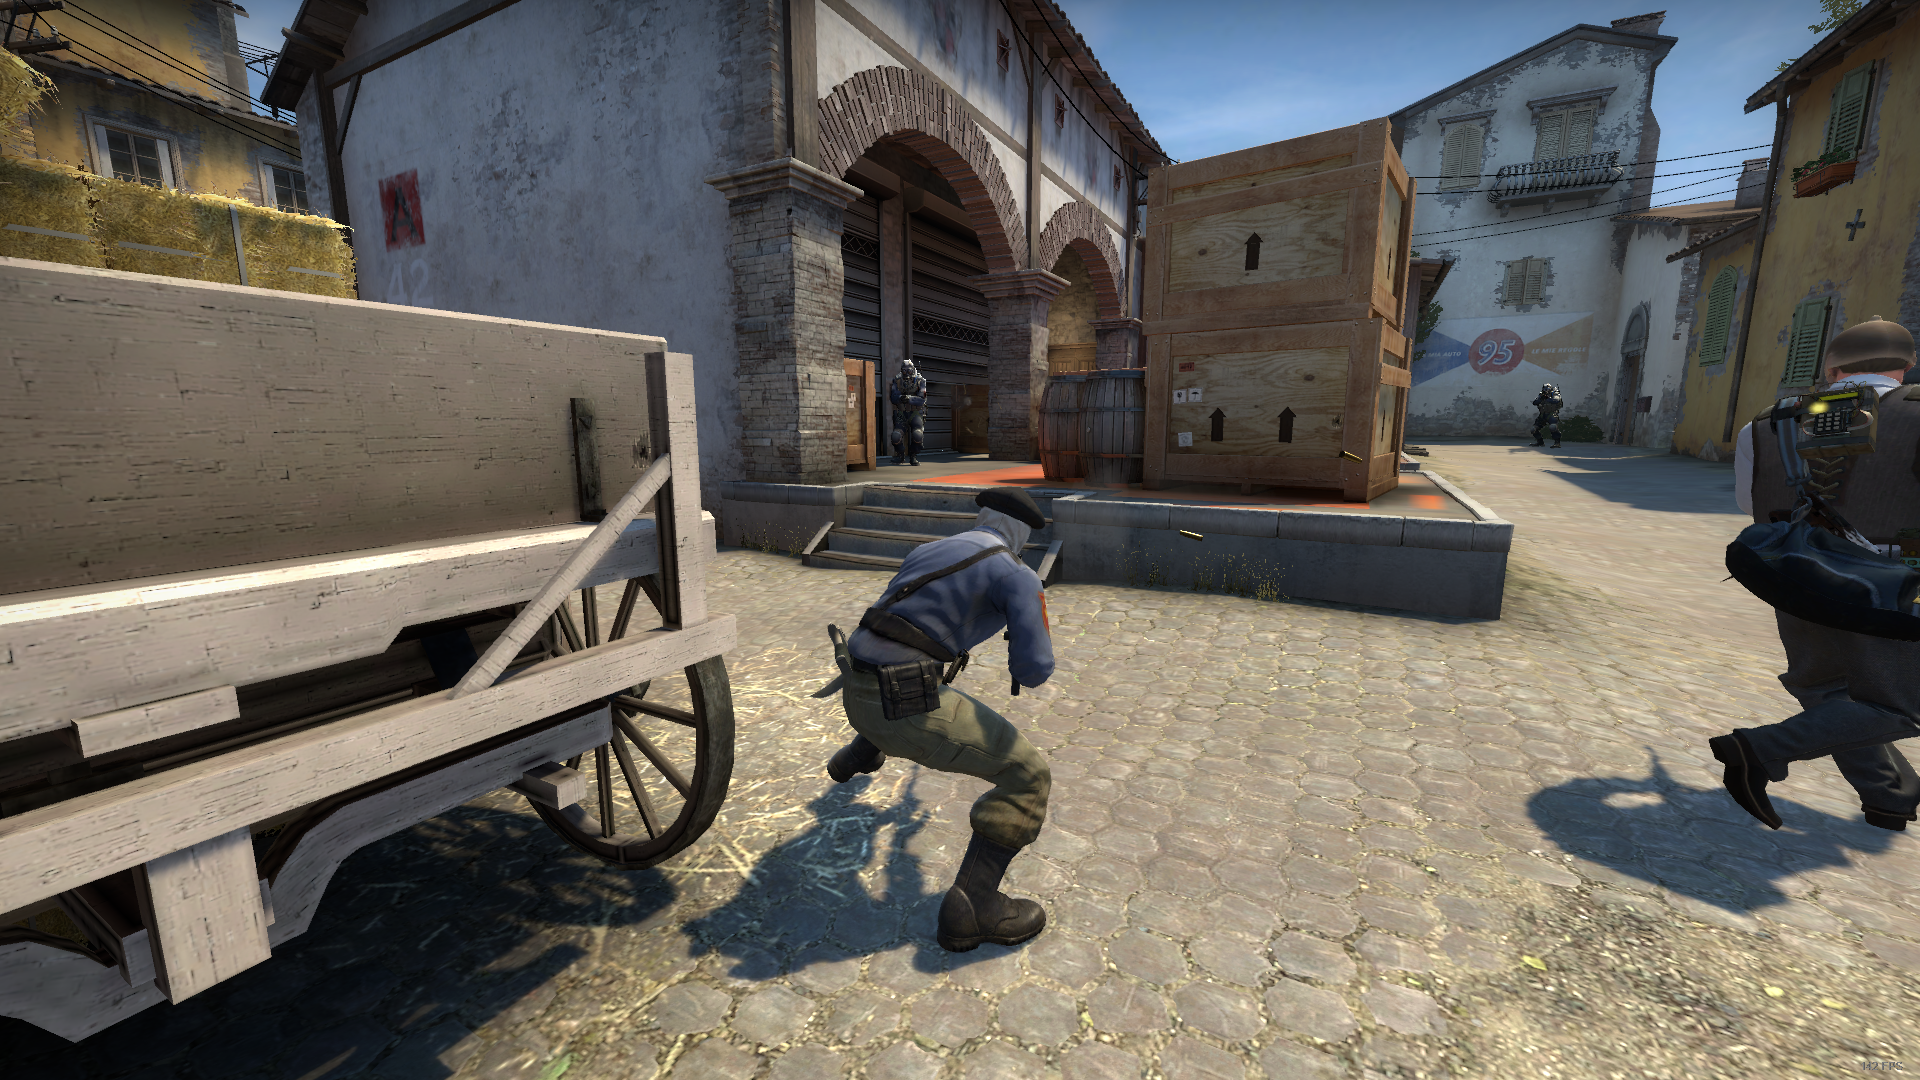ct: (880, 356, 931, 464), (1523, 382, 1565, 451)
t: (819, 498, 1069, 957)
